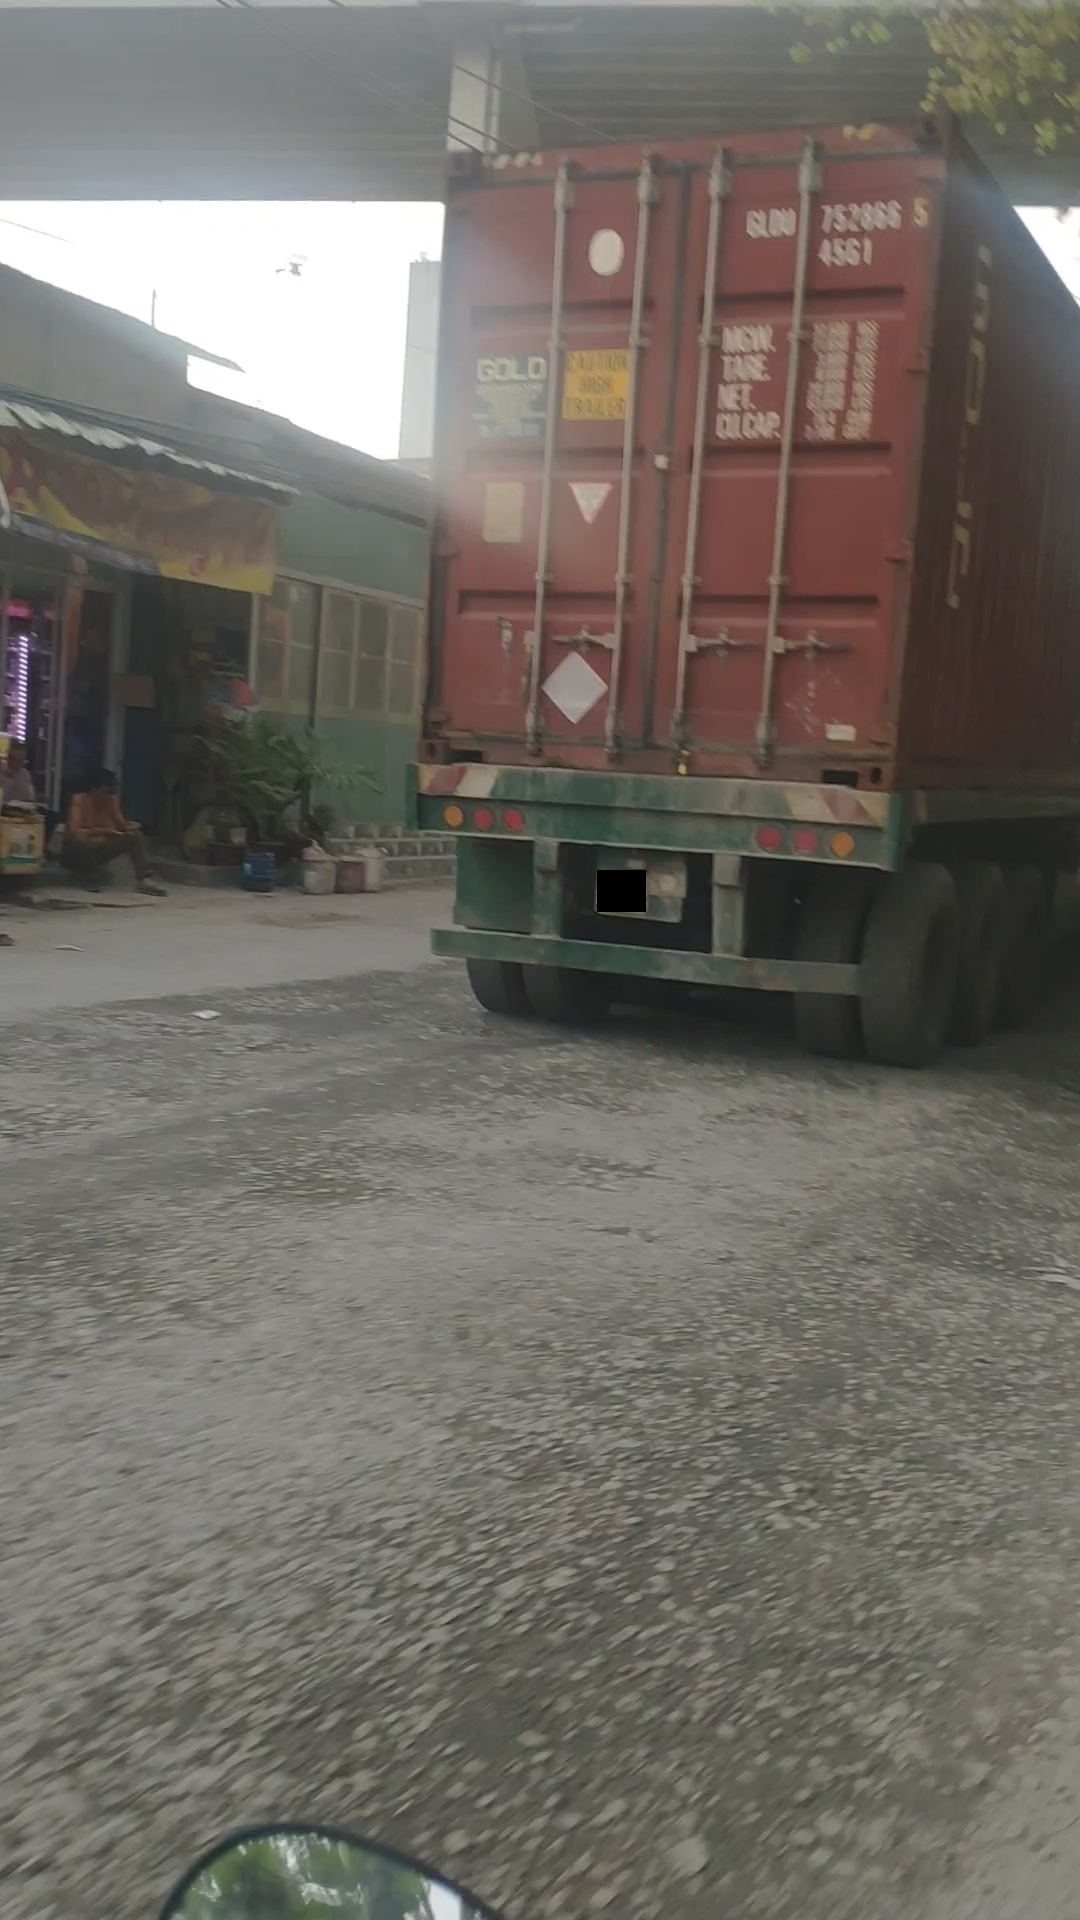hole: (857, 1182, 1080, 1294), (196, 971, 368, 1022), (241, 902, 365, 935), (229, 1029, 339, 1065), (411, 1010, 513, 1043)
